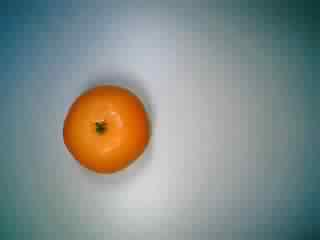orange: (59, 78, 154, 176)
